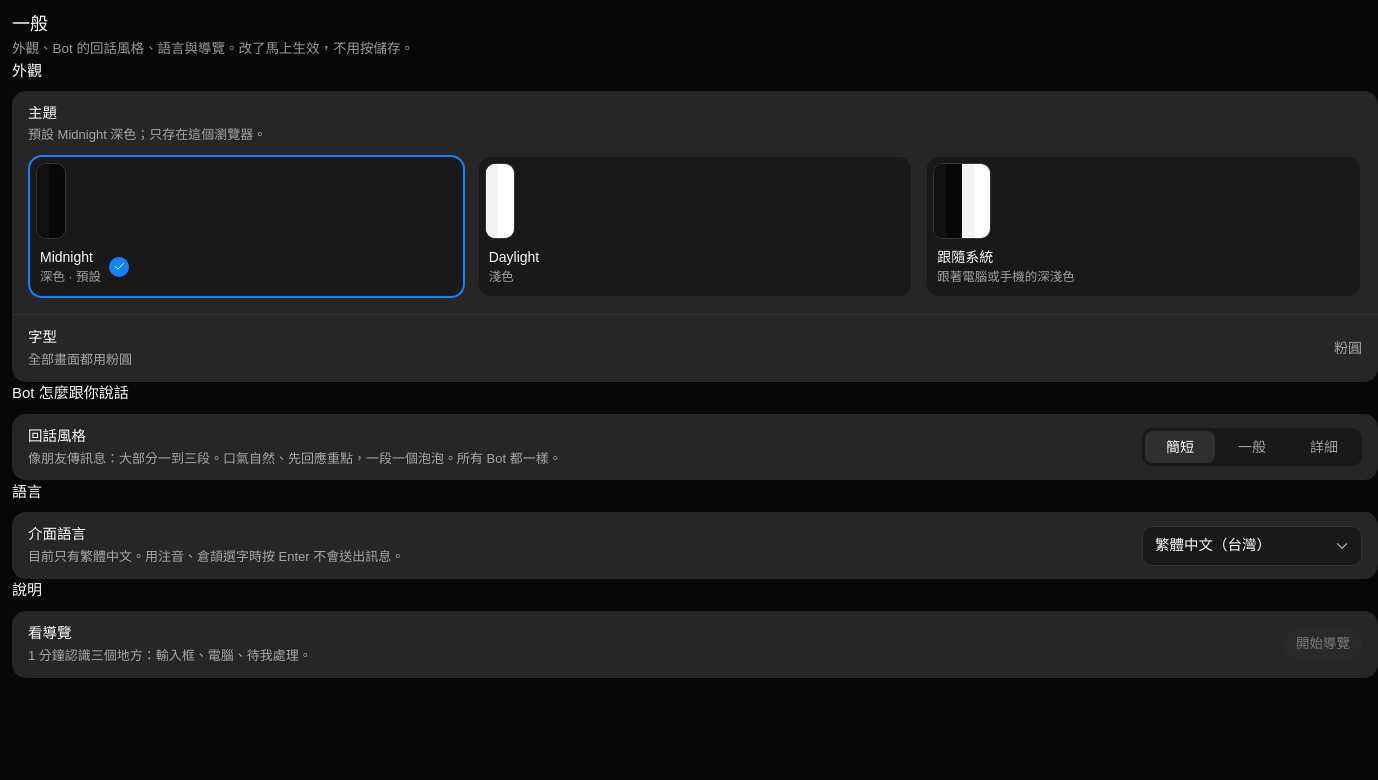
Test: 一般：回話風格所有 Bot 共用，選了就存
Expected: the text "像朋友傳訊息：大部分一到三段。口氣自然、先回應重點，一段一個泡泡。所有 Bot 都一樣。" is shown, [28,451,562,466]
Click the radio button labelled "詳細".
click(1324, 447)  # box [1289,431,1359,463]
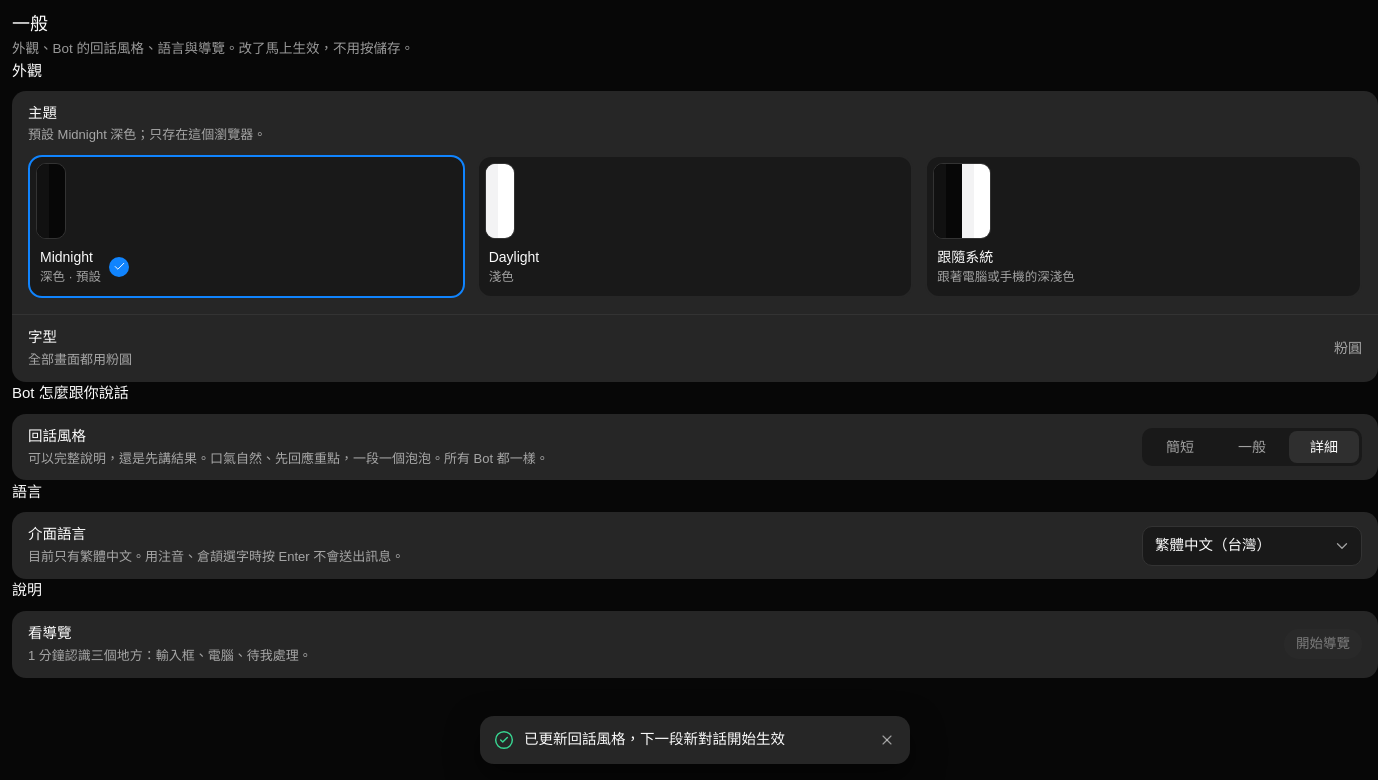
Result: the text "已更新回話風格，下一段新對話開始生效" is shown at [524,731,785,747]
